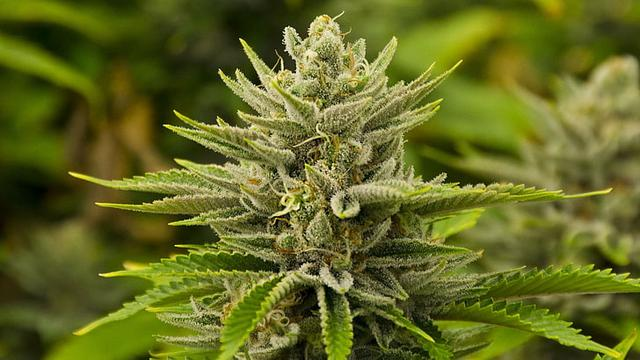Marijuana Joint: (62, 13, 640, 360)
